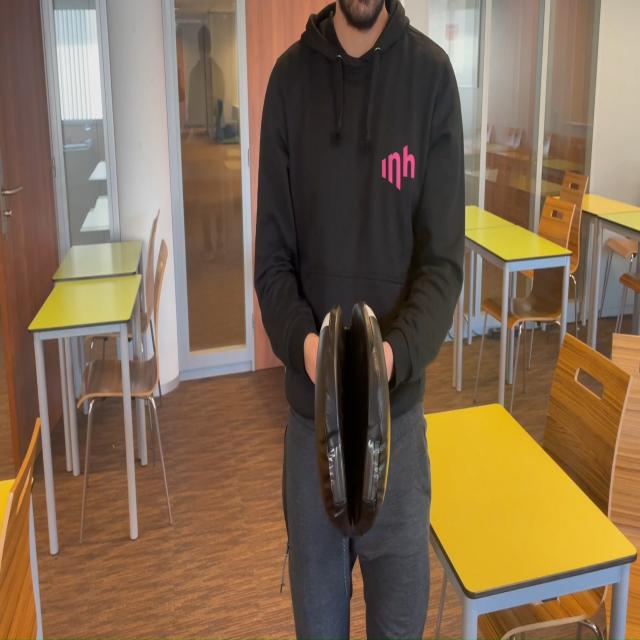paddle: (322, 309, 388, 536)
